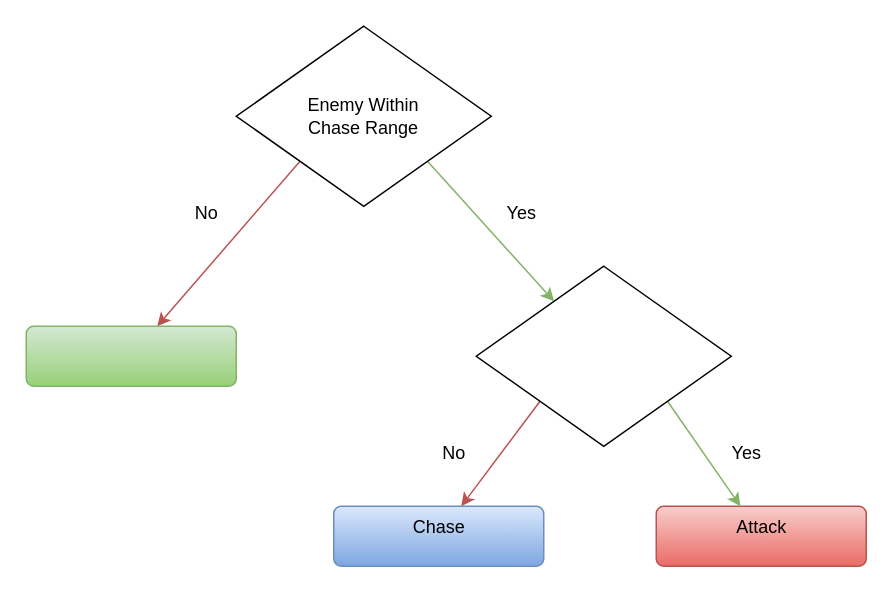
The diagram is 893 pixels wide and 593 high, and some of its shapes have lost their labels. Each missing label, with the centre of its shape:
"Enemy Within Attack Range" belongs at point 603,355.
"Wander" belongs at point 130,355.
